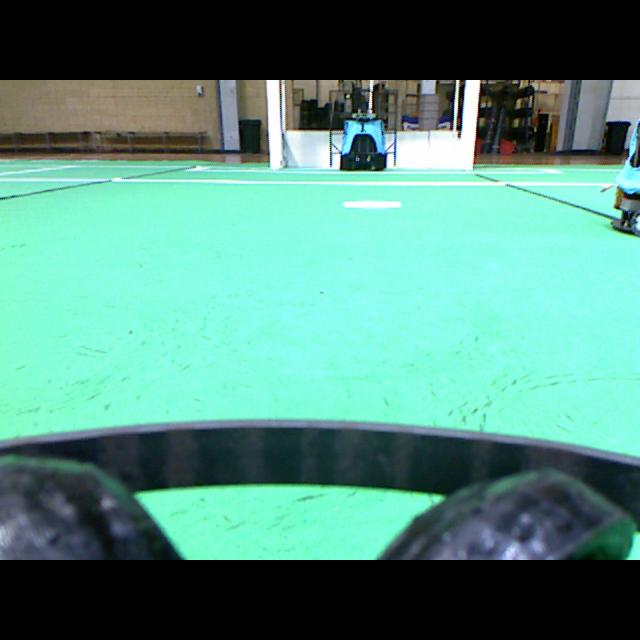goal: (461, 80, 479, 169), (266, 80, 282, 169)
